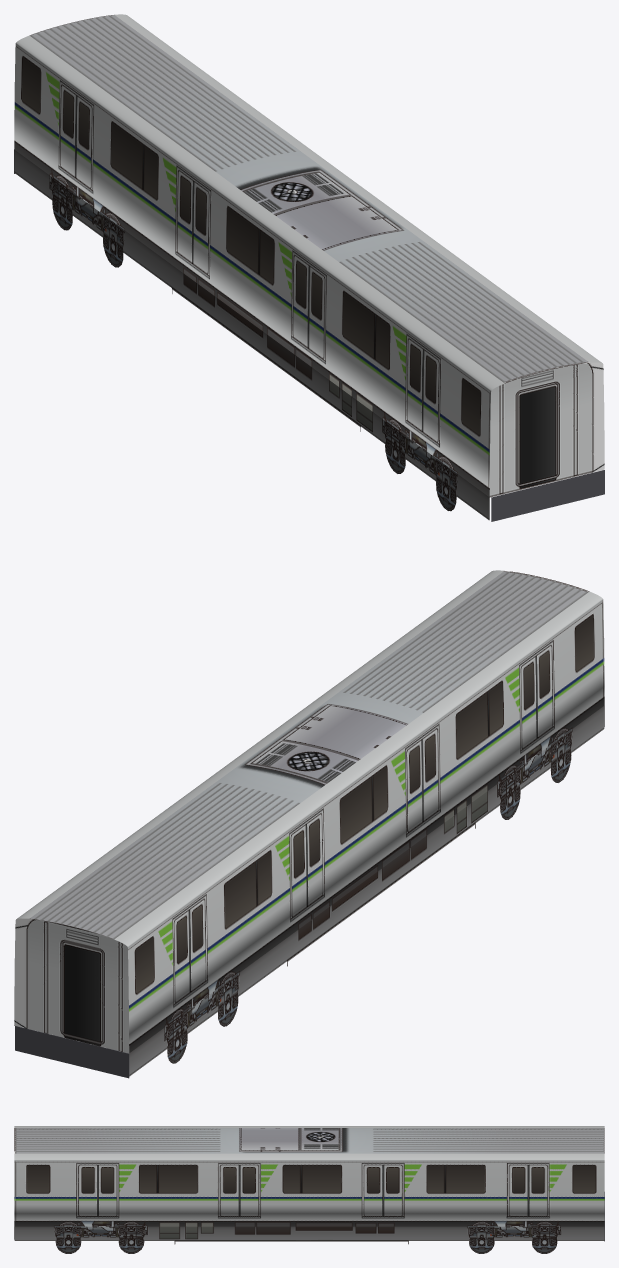
File: car6.glb
The picture shows the model from 3 angles, top to bottom: view 1: azimuth 30°, elevation 25°; view 2: azimuth 150°, elevation 25°; view 3: azimuth 270°, elevation 25°; orthographic projection. The views are drawn at different scales.
Visible parts, largest first — view 1: toei10300-car6; view 2: toei10300-car6; view 3: toei10300-car6.
Part boxes in pixels (x1,y1,x2,y2): toei10300-car6: (14, 14, 604, 521); toei10300-car6: (14, 570, 604, 1078); toei10300-car6: (14, 1126, 604, 1253).
Size of the model in its own units: 2.79 by 3.64 by 20.03.
Materials: 8 (7 with a texture image).
